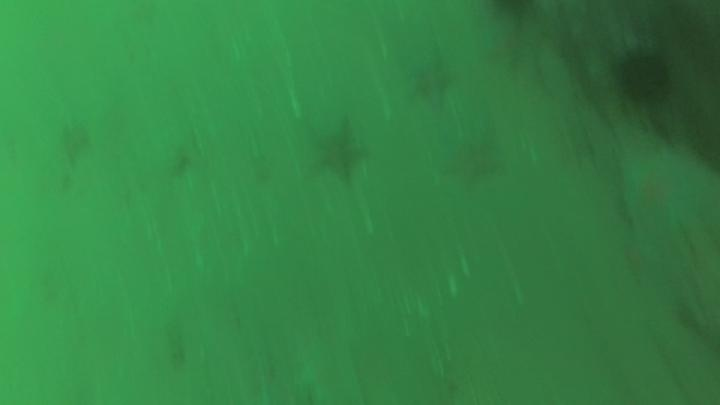echinus: (609, 41, 678, 112)
starfish: (613, 144, 718, 246), (432, 118, 509, 193), (308, 115, 373, 187), (402, 51, 459, 113)
